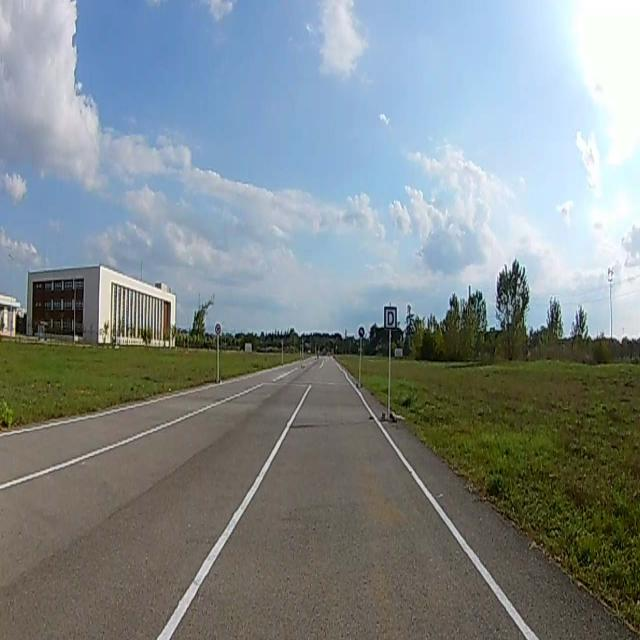durak: (384, 308, 397, 328)
